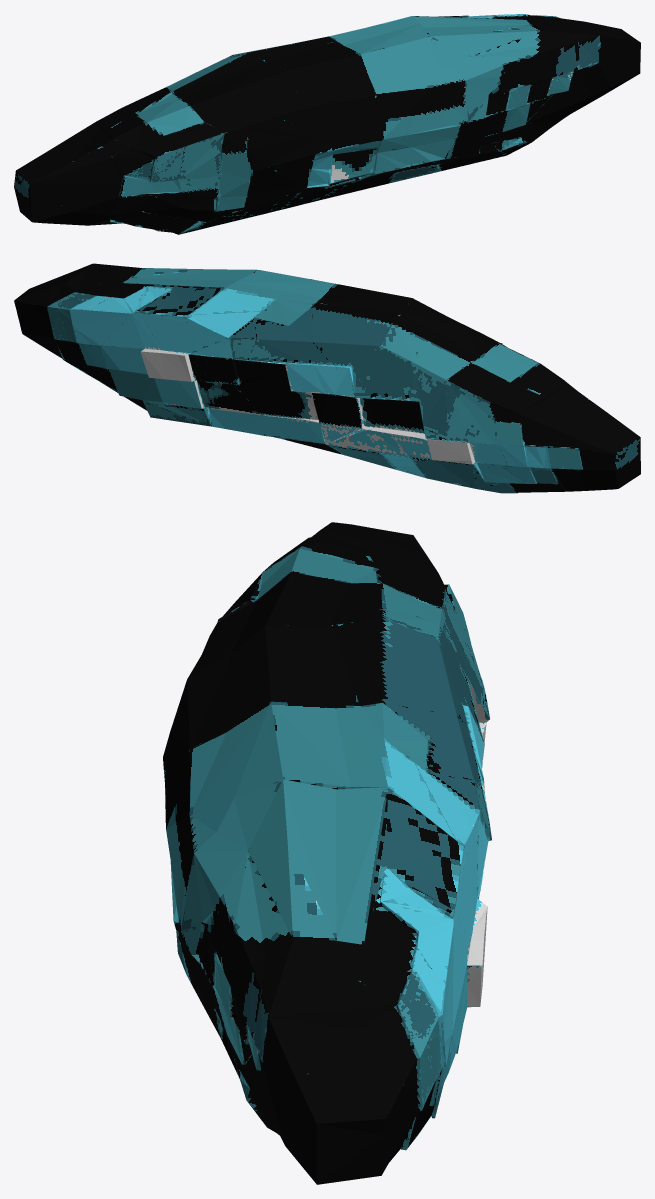
The picture shows the model from 3 angles, top to bottom: view 1: azimuth 30°, elevation 25°; view 2: azimuth 150°, elevation 25°; view 3: azimuth 270°, elevation 25°; orthographic projection. The views are drawn at different scales.
Visible parts, largest first — view 1: OBJ111; view 2: OBJ111; view 3: OBJ111.
Part boxes in pixels (x1,y1,x2,y2): OBJ111: (14,14,640,234); OBJ111: (14,263,640,493); OBJ111: (163,522,491,1184).
Bounding box in the file's own units: 0.2577 × 0.058 × 0.0605.
Materials: 1 (1 with a texture image).
